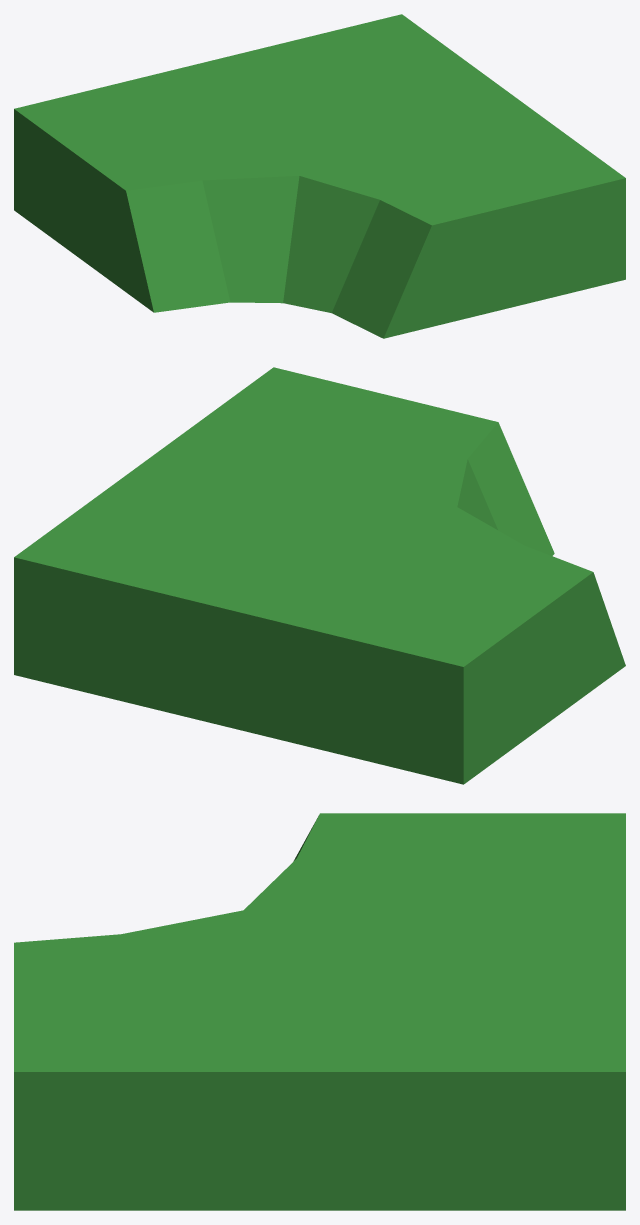
File: pond_corner_002.fbx
3 views of the same model, one above another, from view 1: azimuth 30°, elevation 25°; view 2: azimuth 150°, elevation 25°; view 3: azimuth 270°, elevation 25° (orthographic). The views are drawn at different scales.
Parts seen in each view (by area): view 1: pond.corner.002; view 2: pond.corner.002; view 3: pond.corner.002.
Boxes of the visible parts, x1,y1,x2,y2 form: pond.corner.002: (14,14,625,338); pond.corner.002: (14,367,625,784); pond.corner.002: (14,813,625,1210).
Size of the model in its own units: 400 by 100 by 400.
